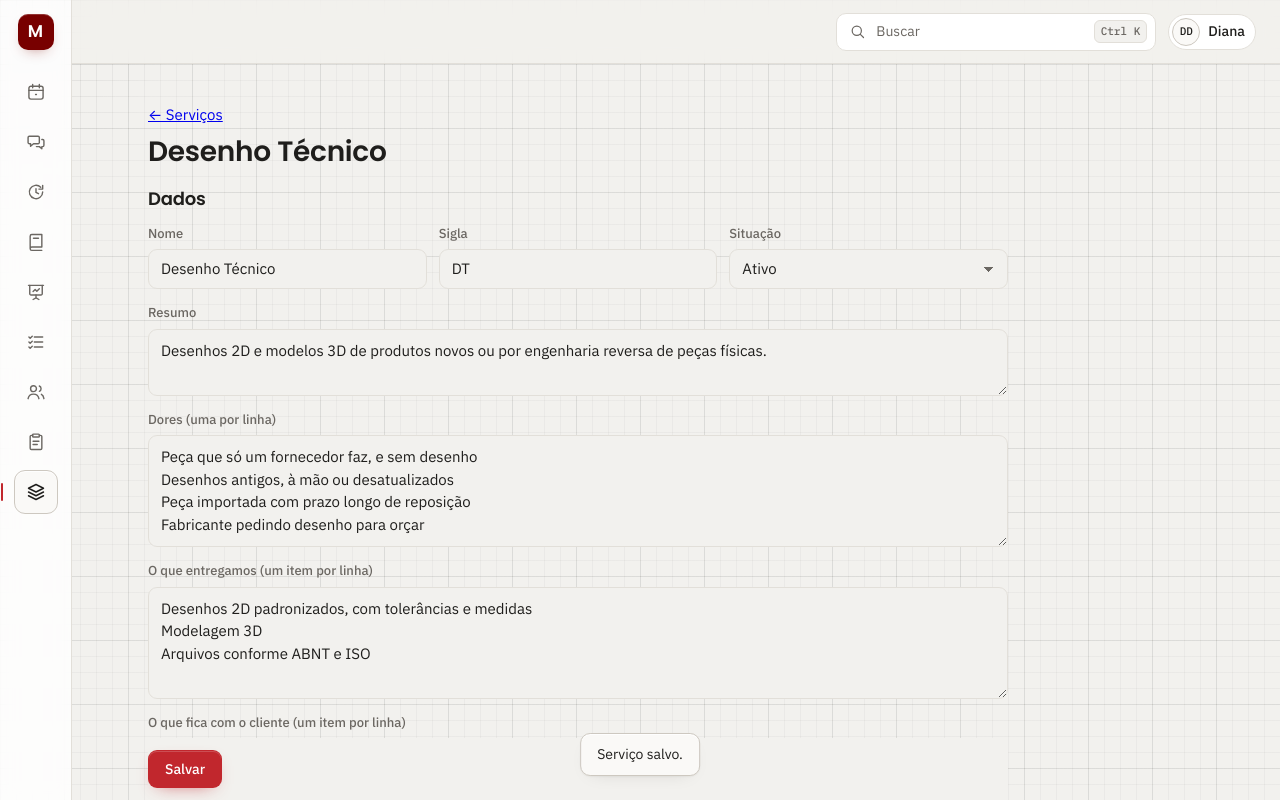
erro do servidor (409) aparece no formulário
This screenshot has width=1280, height=800.
Click the button "Salvar" at {"x": 185, "y": 769}, box [148, 750, 222, 788]
(page scrolled)
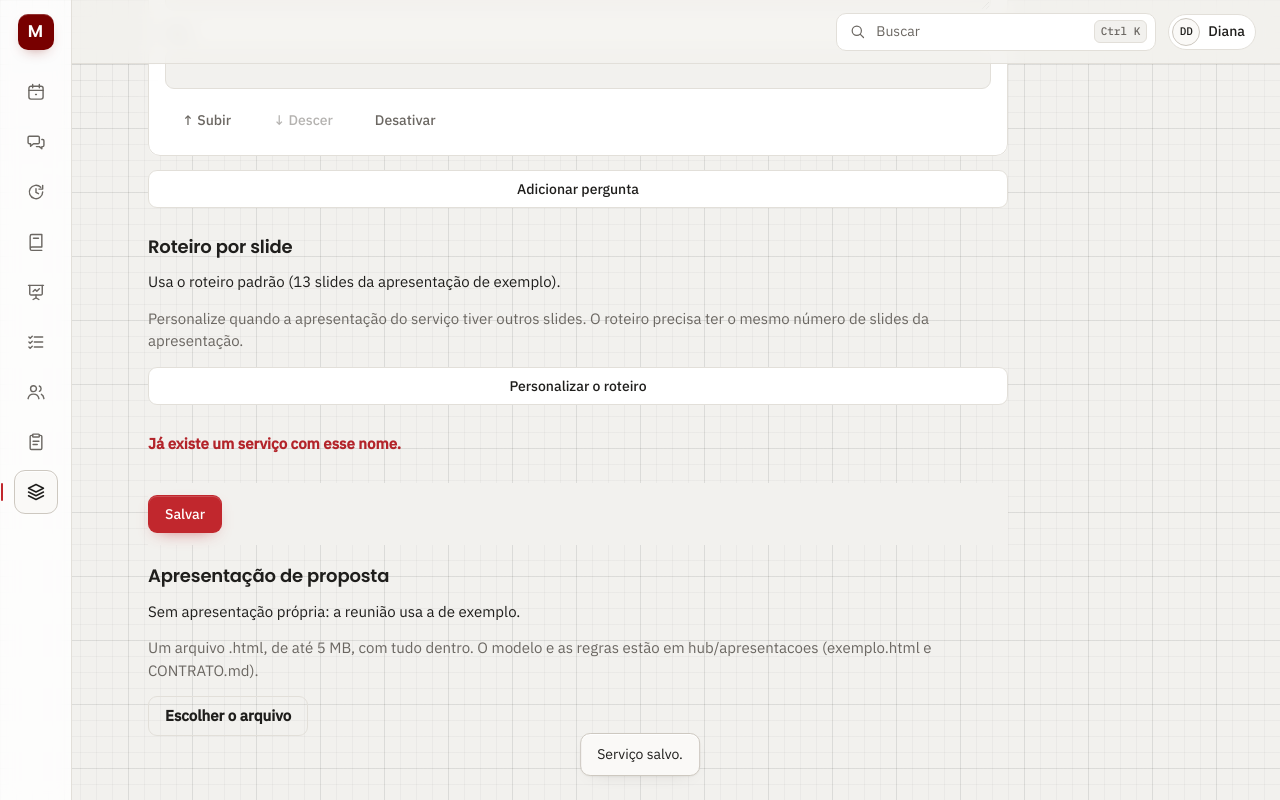
Check: the message "Já existe um serviço com esse nome." is shown, box [148, 434, 401, 453]
